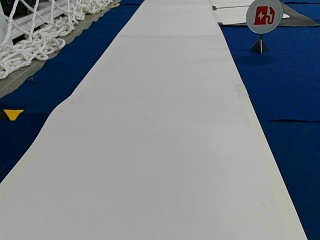battery: (245, 0, 283, 34)
